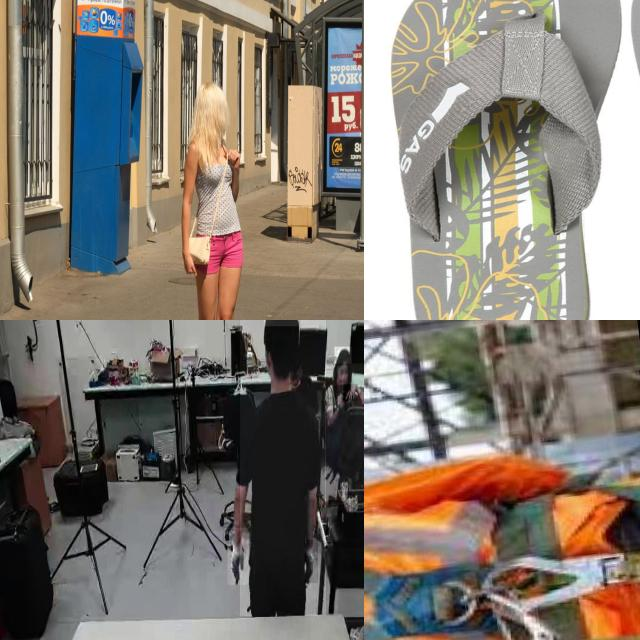Harness: (364, 468, 640, 640)
Sandals: (388, 0, 640, 320)
face_nomask: (337, 365, 349, 386)
hand_glove: (228, 528, 250, 586), (304, 540, 318, 584)
hand_noglove: (343, 384, 358, 402)
head_nohelmet: (334, 346, 352, 364), (264, 320, 299, 327)
person: (239, 320, 326, 617), (324, 363, 364, 501)
